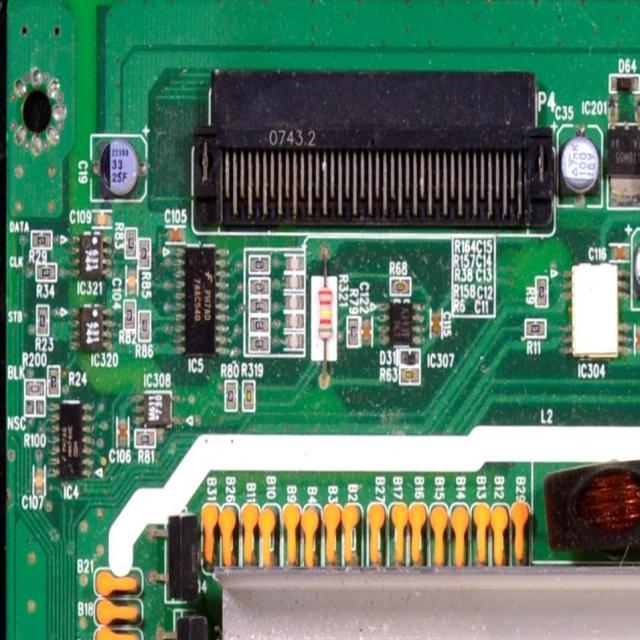IC: (173, 245, 229, 358), (564, 267, 628, 360), (606, 120, 640, 208), (53, 406, 91, 479), (379, 304, 428, 346), (73, 304, 114, 354), (73, 237, 110, 285), (137, 396, 175, 423)
capacitor: (89, 133, 146, 202), (560, 128, 604, 209), (631, 227, 640, 313), (33, 463, 46, 496), (117, 417, 130, 449), (165, 226, 186, 243), (90, 212, 114, 226), (126, 267, 136, 297), (364, 318, 371, 347), (637, 328, 640, 354)
connector: (194, 70, 556, 238)
resistor: (313, 276, 336, 362), (139, 237, 152, 270), (391, 278, 413, 297), (225, 380, 238, 410), (31, 231, 56, 246), (36, 265, 59, 281), (398, 369, 422, 384), (525, 321, 546, 338), (37, 306, 48, 338), (242, 383, 254, 412), (348, 317, 359, 348), (50, 366, 60, 399), (25, 397, 47, 412), (537, 279, 547, 310), (124, 300, 134, 328), (140, 315, 150, 343), (125, 229, 135, 256), (27, 382, 47, 394)
transistor: (146, 509, 200, 605), (157, 617, 213, 640)
